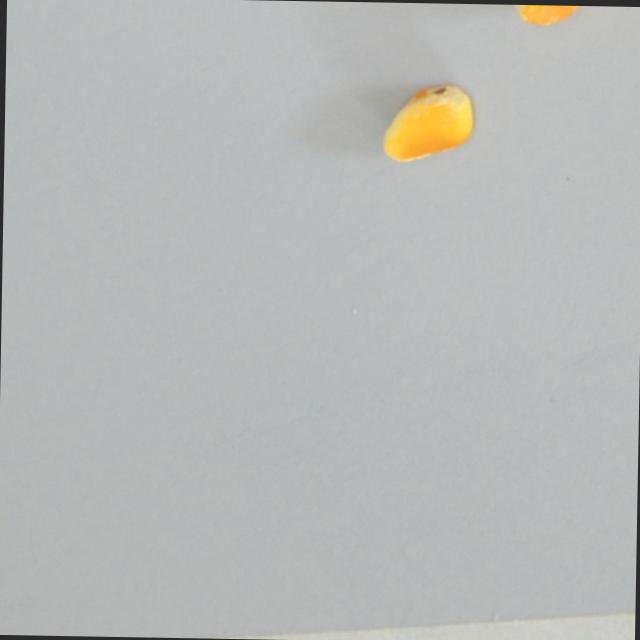dañado: (368, 80, 475, 174)
punto_negro: (494, 3, 624, 42)
